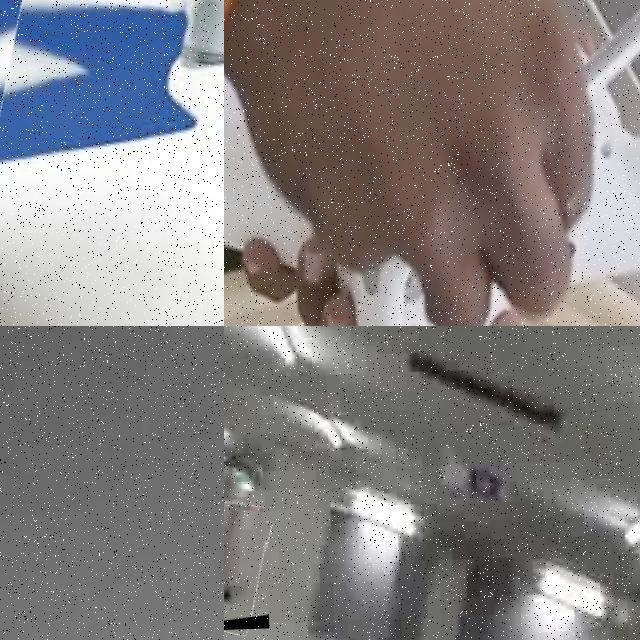drone: (224, 0, 640, 326), (0, 0, 224, 326), (224, 496, 269, 633)
